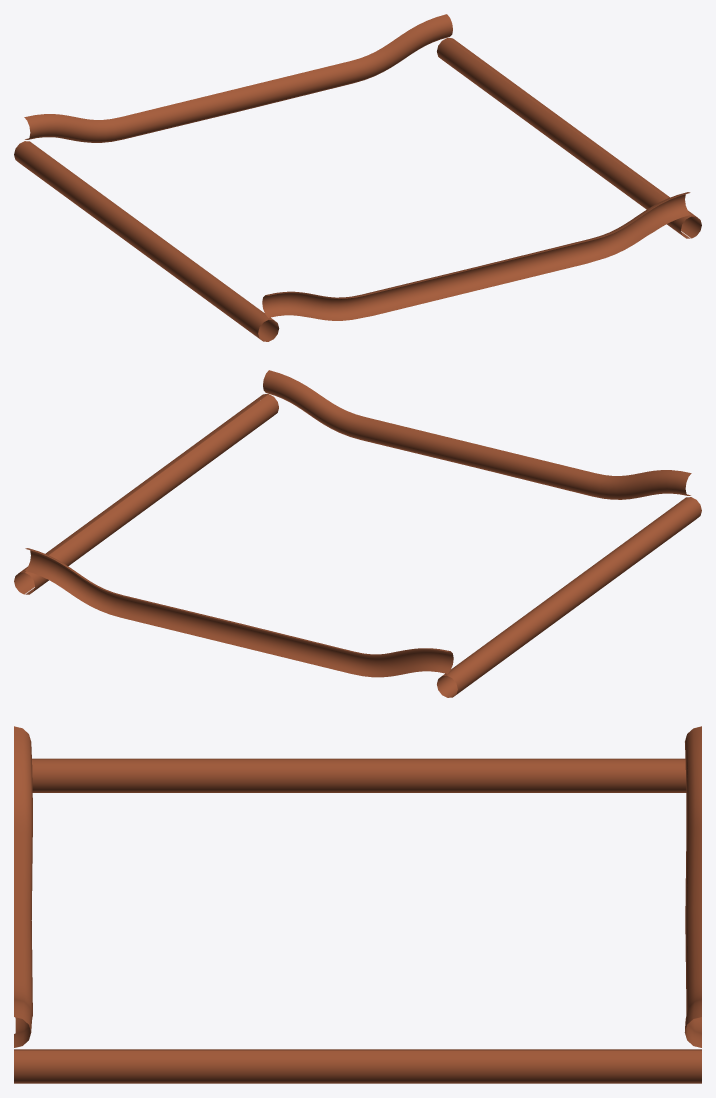
The model's file is SM_tileSol_DoubleBordersSide.fbx.
The picture shows the model from 3 angles, top to bottom: view 1: azimuth 30°, elevation 25°; view 2: azimuth 150°, elevation 25°; view 3: azimuth 270°, elevation 25°; orthographic projection. The views are drawn at different scales.
Visible parts, largest first — view 1: SM_tileSol_DoubleBordersSide; view 2: SM_tileSol_DoubleBordersSide; view 3: SM_tileSol_DoubleBordersSide.
Part boxes in pixels (x1,y1,x2,y2): SM_tileSol_DoubleBordersSide: [14, 14, 701, 341]; SM_tileSol_DoubleBordersSide: [14, 370, 701, 697]; SM_tileSol_DoubleBordersSide: [14, 726, 701, 1083].
Bounding box in the file's own units: 210 × 20.84 × 200.
